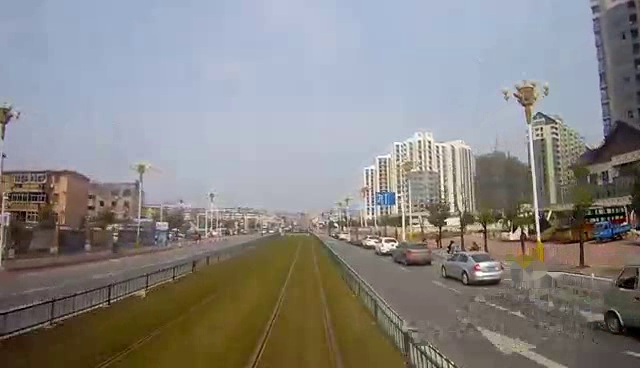bus: (520, 204, 630, 242)
car: (440, 245, 508, 285), (393, 239, 441, 268), (379, 234, 403, 257), (362, 234, 386, 249)
